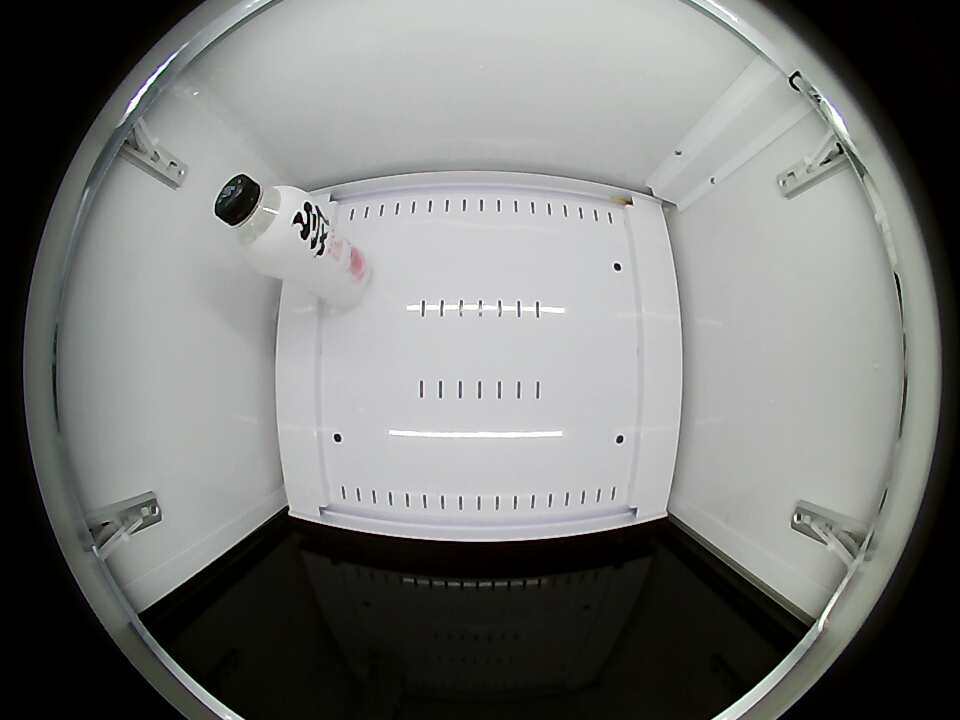yuanqishui: (214, 174, 315, 271)
